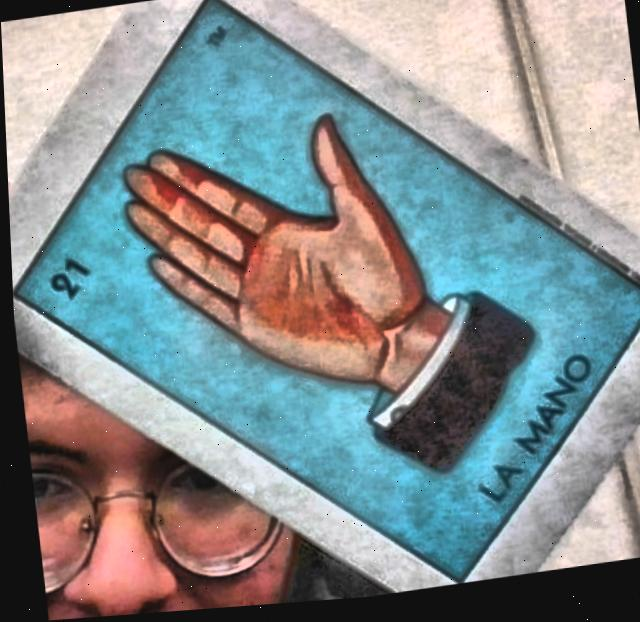La Mano: (14, 1, 640, 588)
